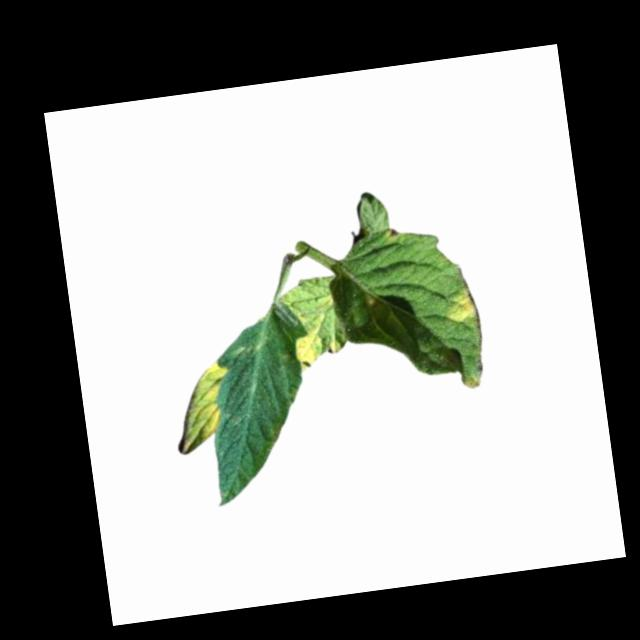Leaf_Mold: (167, 359, 233, 454), (294, 329, 345, 371), (444, 286, 481, 325)
